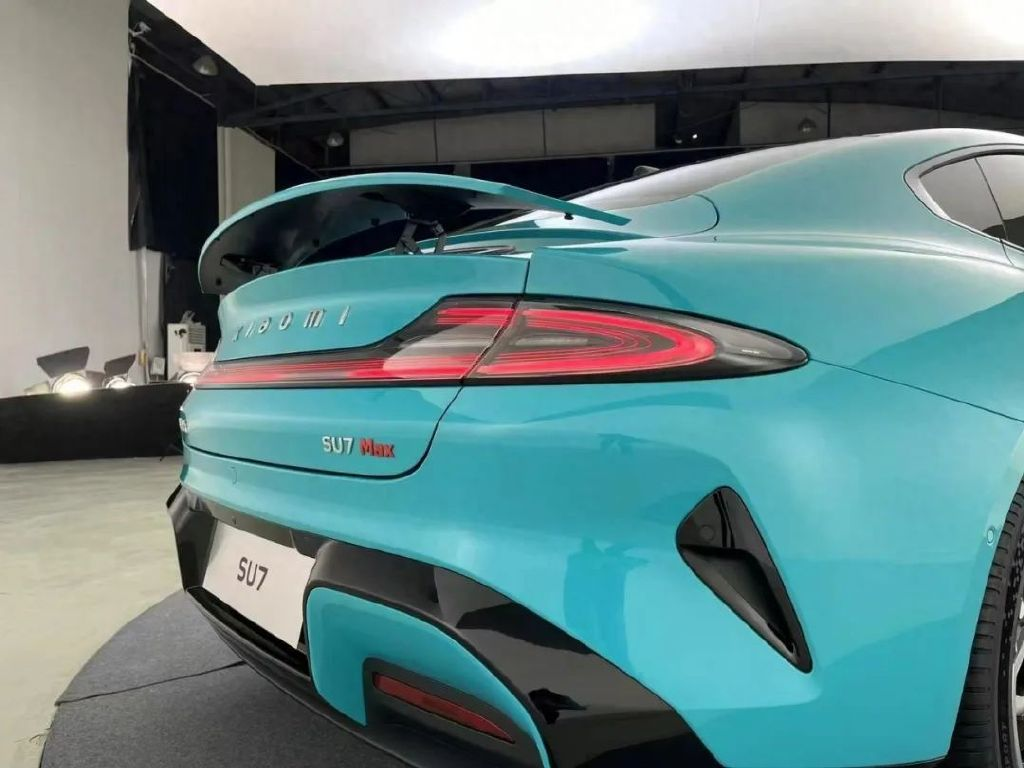su7: (173, 115, 1024, 768)
